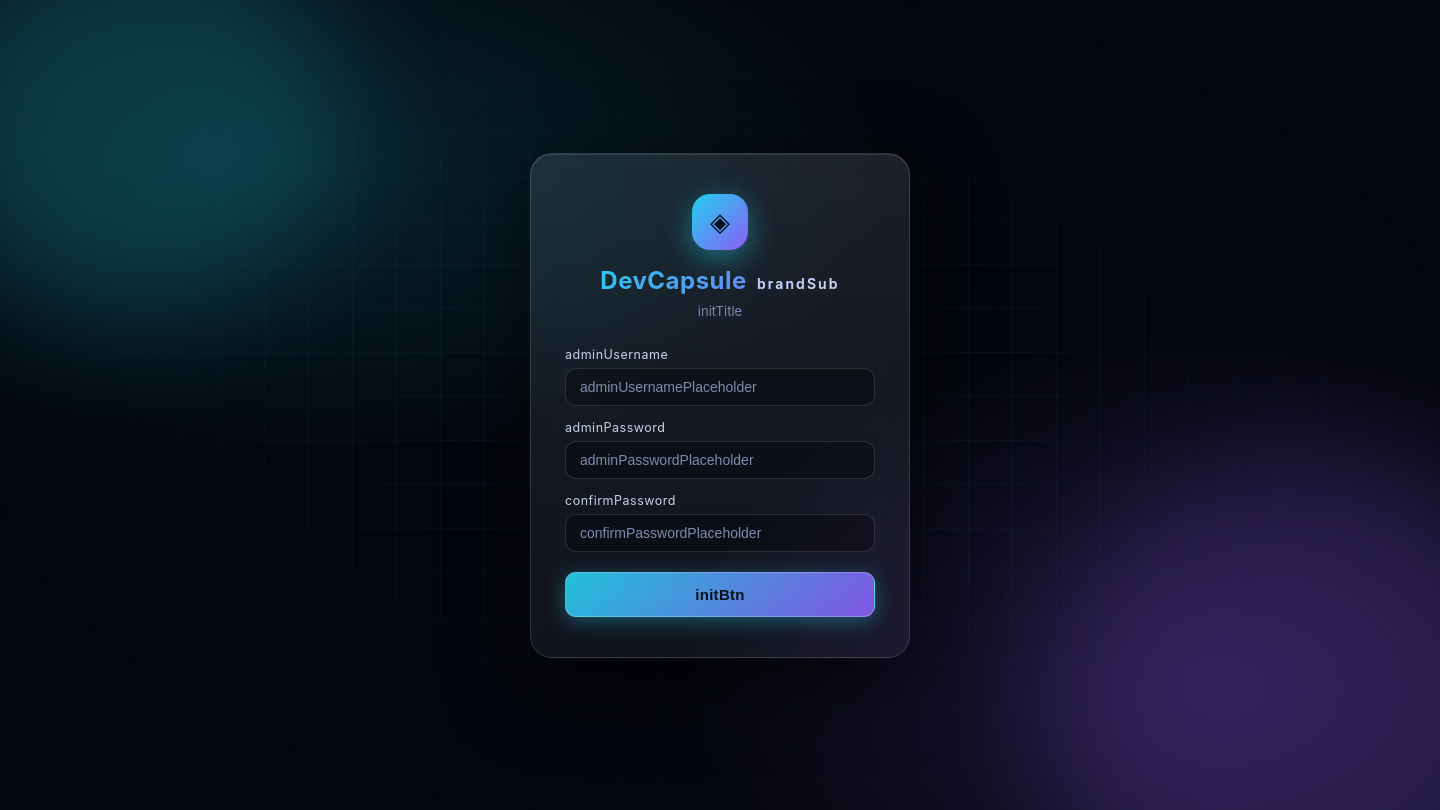
Test case: Initialize › rejects submission when passwords do not match
Type "admin" into the field with placeholder "adminUsernamePlaceholder" at (720, 386), box [565, 368, 875, 406]
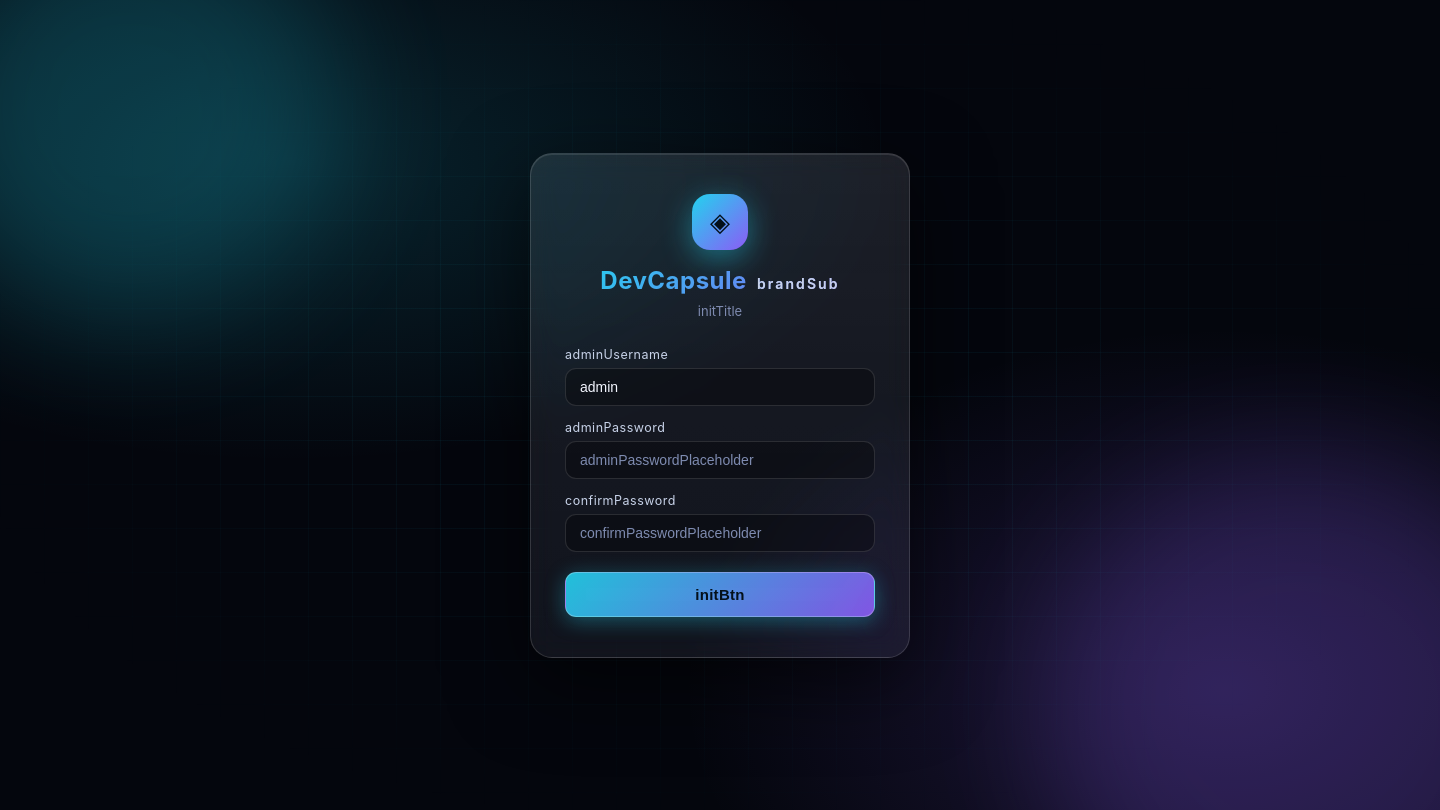
Type "pass1234" into the password field with placeholder "adminPasswordPlaceholder" at (720, 460), box [565, 440, 875, 478]
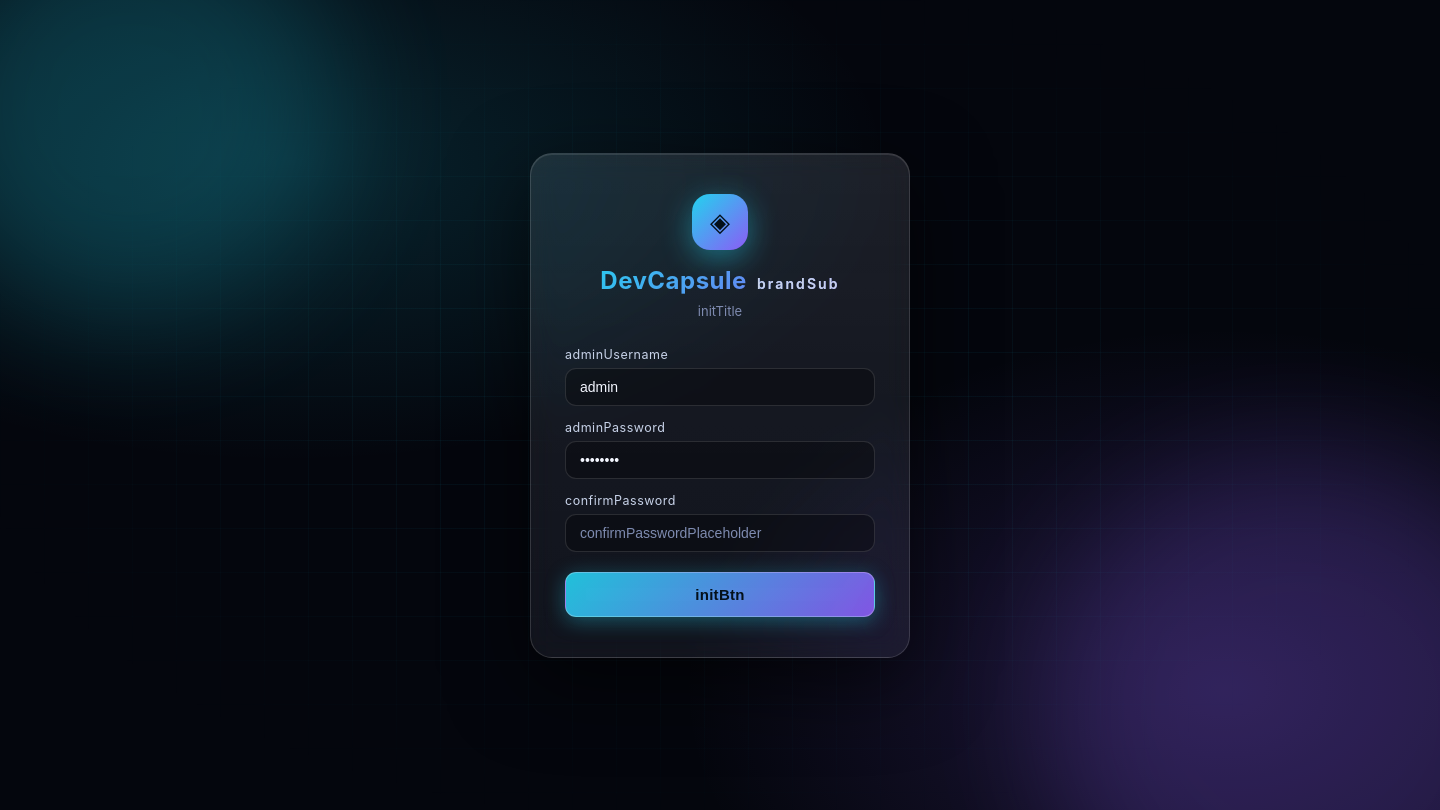
Type "pass5678" into the password field with placeholder "confirmPasswordPlaceholder" at (720, 532), box [565, 514, 875, 552]
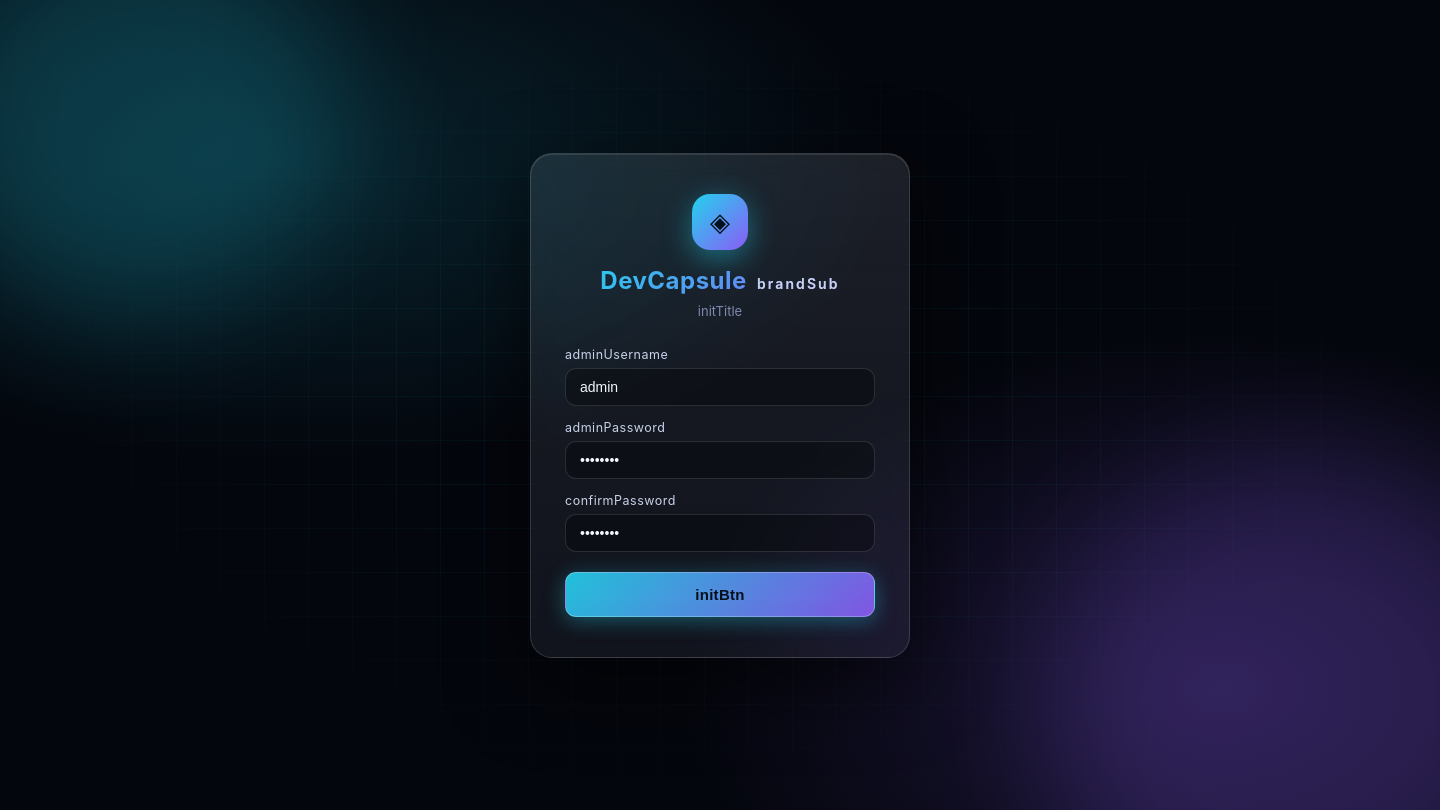
Submit the form, box [565, 346, 875, 616]
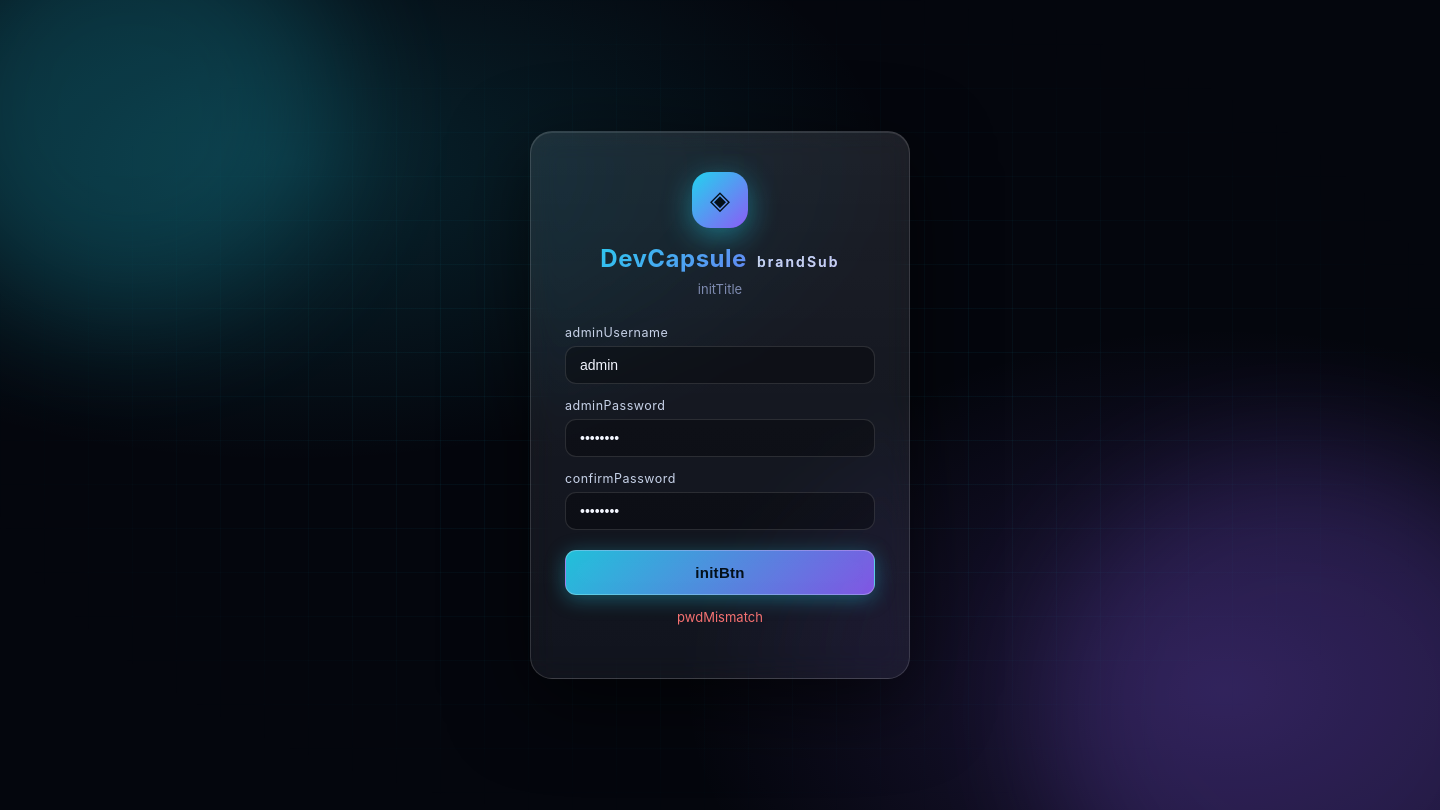
Check: the text with class "err" reads "pwdMismatch", box [677, 609, 763, 625]
